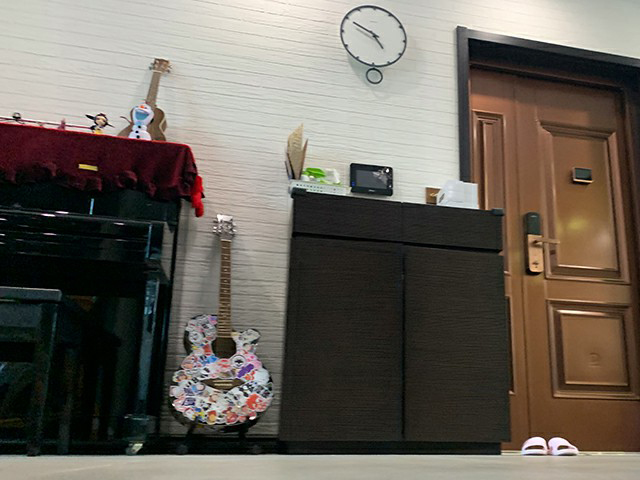cabinet: (278, 187, 512, 456)
slippers: (520, 435, 548, 457), (549, 437, 581, 456)
stool: (1, 285, 89, 457)
